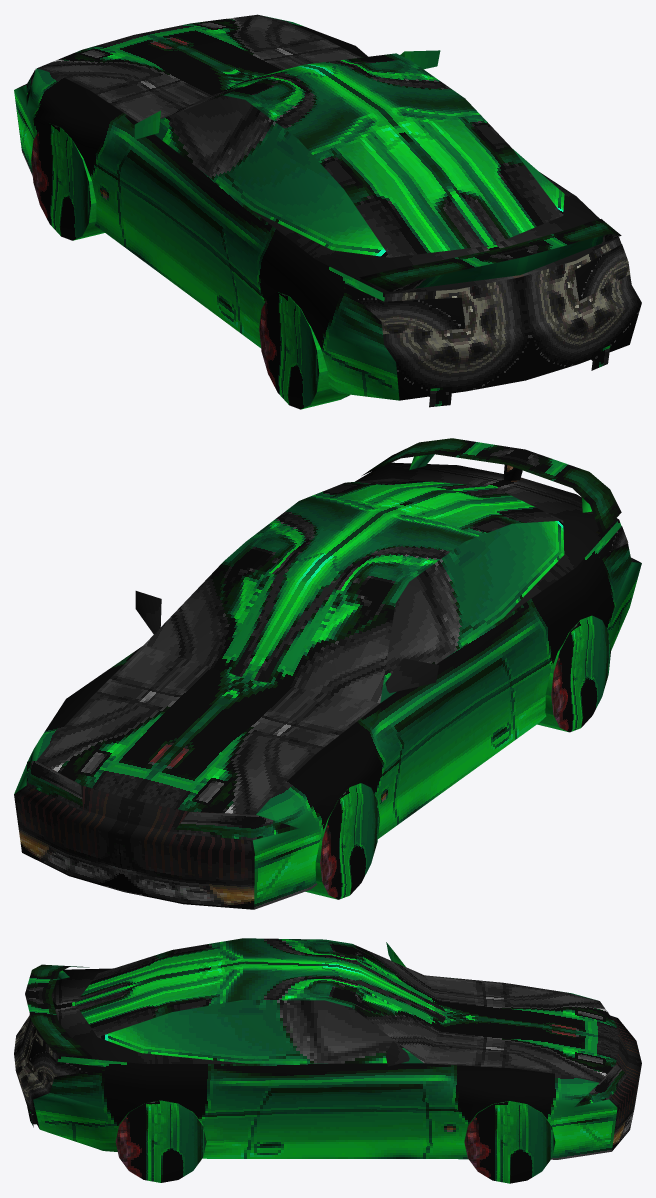
Rendered from ps1_gt1-style_model_-_1996_horai_bx300.glb.
3 views of the same model, one above another, from view 1: azimuth 30°, elevation 25°; view 2: azimuth 150°, elevation 25°; view 3: azimuth 270°, elevation 25° (orthographic). The views are drawn at different scales.
Parts seen in each view (by area): view 1: BX300_5, Wheel_FR_2, Wheel_RR_4; view 2: BX300_5, Wheel_FR_2, Wheel_RR_4; view 3: BX300_5, Wheel_FL_1, Wheel_RL_3.
Boxes of the visible parts, box(x1,y1,x2,y2) form: BX300_5: box(14, 14, 641, 407); Wheel_FR_2: box(259, 292, 349, 409); Wheel_RR_4: box(31, 123, 104, 240); BX300_5: box(14, 438, 641, 909); Wheel_FR_2: box(537, 615, 610, 732); Wheel_RR_4: box(305, 783, 379, 899); BX300_5: box(14, 938, 641, 1159); Wheel_FL_1: box(115, 1100, 206, 1182); Wheel_RL_3: box(464, 1101, 555, 1183).
Bounding box in the file's own units: 4.2 × 2.9 × 9.88.
1 material, 1 textured.
